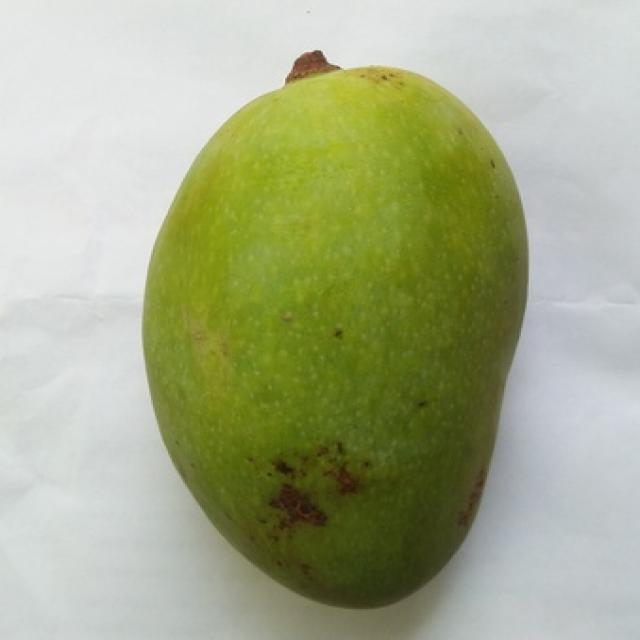Mango: (143, 54, 525, 606)
